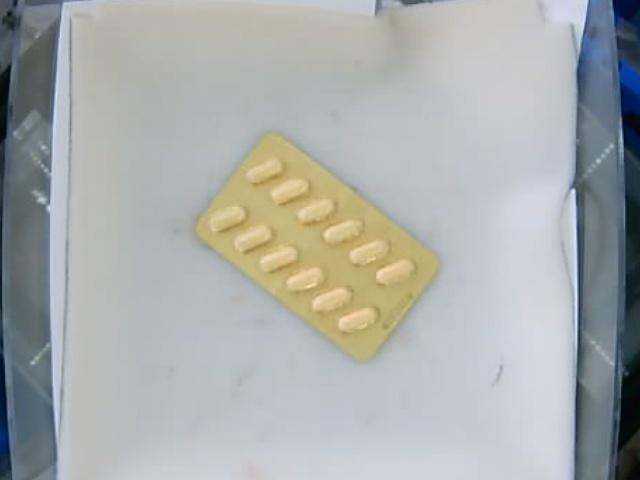Medicine: (197, 131, 440, 360)
